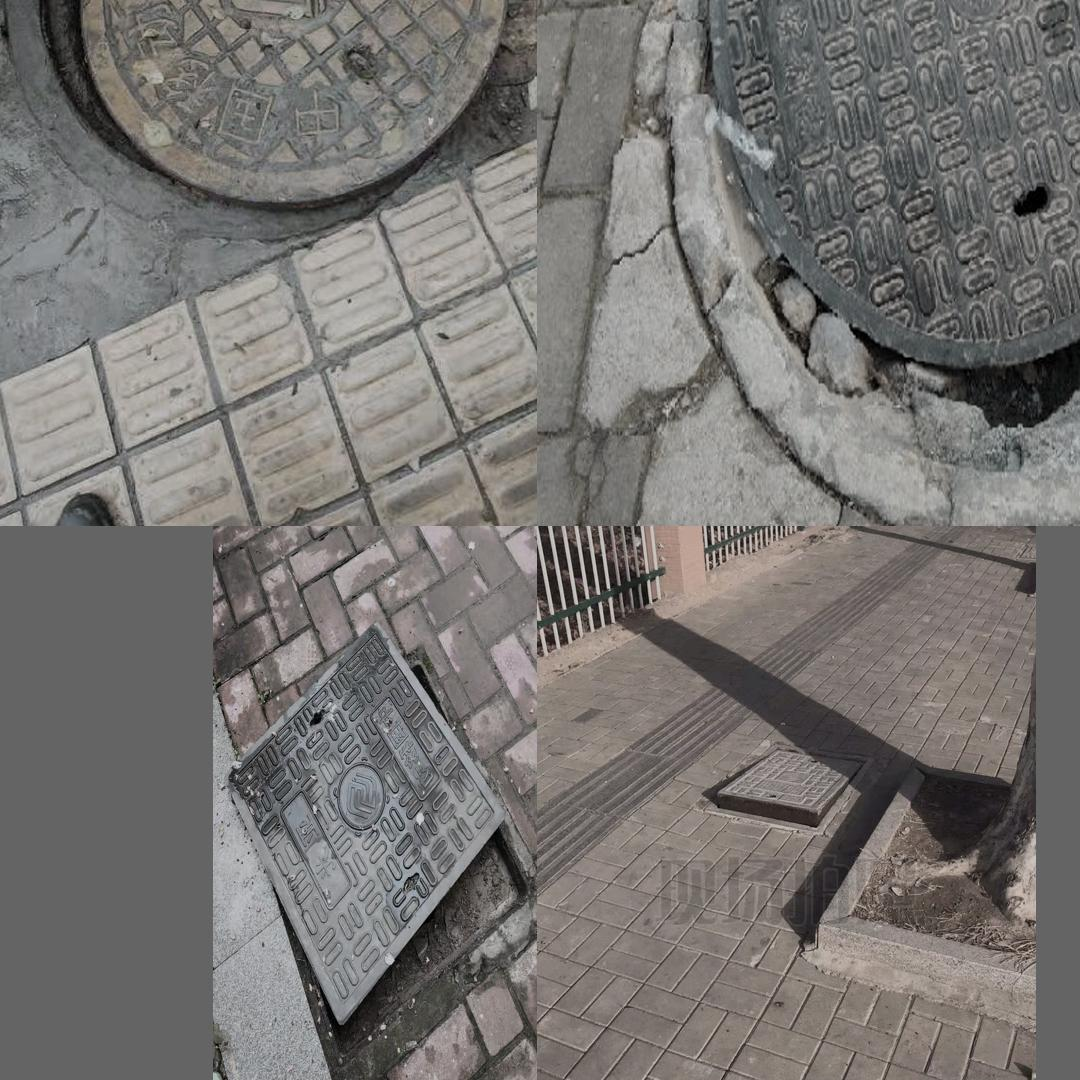uncovered: (674, 0, 1080, 469), (225, 620, 535, 1062), (2, 0, 504, 241), (702, 743, 873, 834)
